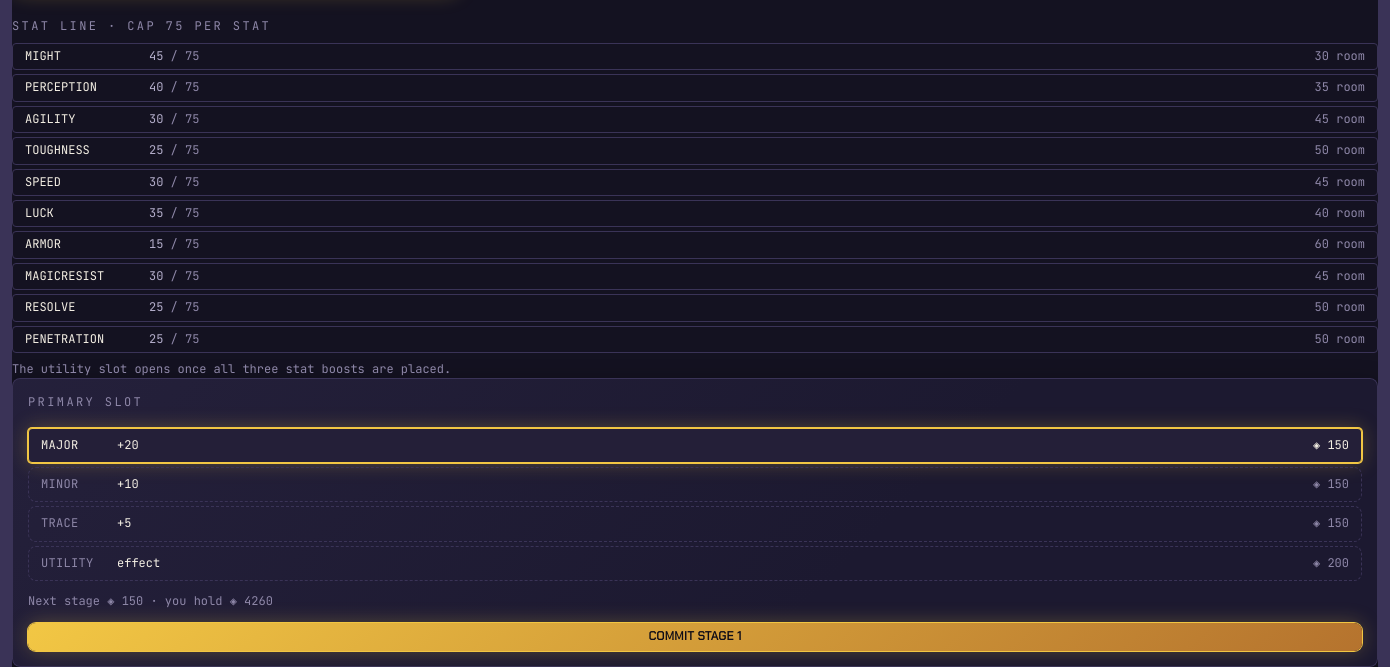
Test: the balance refuses before anything is charged › a clicked commit with no stat chosen asks for one instead of guessing
This screenshot has width=1390, height=667.
(page scrolled)
Step 1. Click the button "Commit stage 1" → (695, 637), box [28,623,1362,651]
(page scrolled)
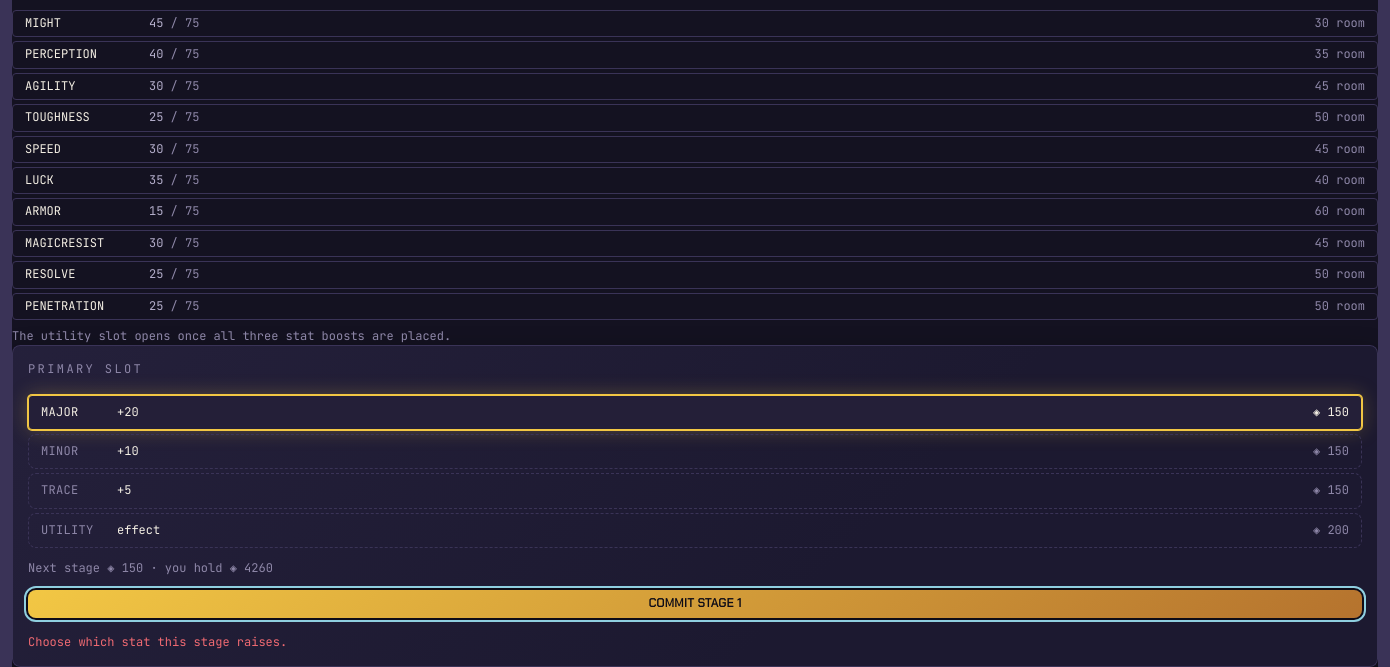
Expected: the message shows "Choose which stat", [28,634,287,650]
